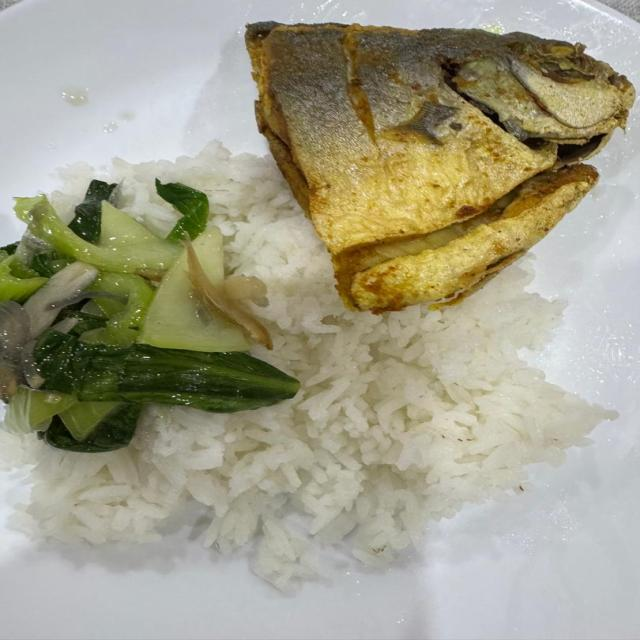Fish: (252, 22, 632, 308)
Plate: (0, 98, 639, 637)
Rice: (45, 163, 620, 587)
Vegetables: (6, 188, 298, 451)
